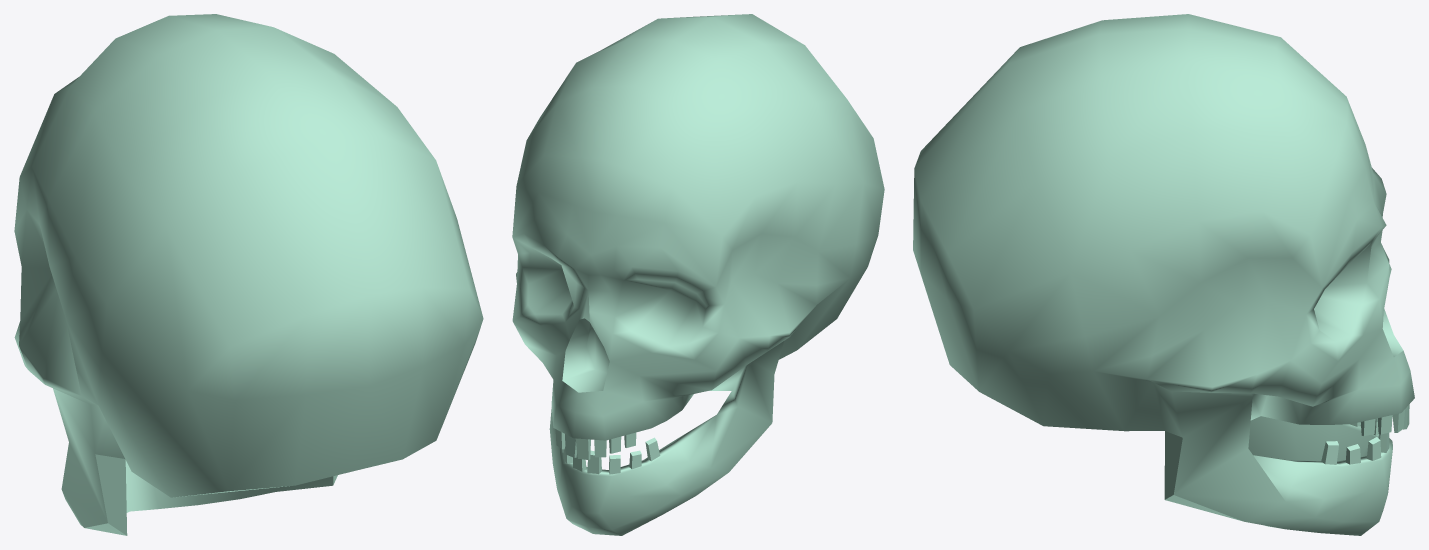
The model's file is Skull.fbx.
3 renders of one model, left to right at view 1: azimuth 30°, elevation 25°; view 2: azimuth 150°, elevation 25°; view 3: azimuth 270°, elevation 25°, orthographic. The views are drawn at different scales.
Visible parts, largest first — view 1: Skul_low; view 2: Skul_low; view 3: Skul_low.
Boxes of the visible parts, x1,y1,x2,y2 form: Skul_low: (14,14,483,535); Skul_low: (512,14,884,535); Skul_low: (913,14,1414,535).
Bounding box in the file's own units: 27.6 × 41.23 × 37.94.
